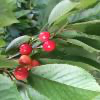Cherry leaf: (26, 62, 99, 99), (48, 0, 80, 28)
